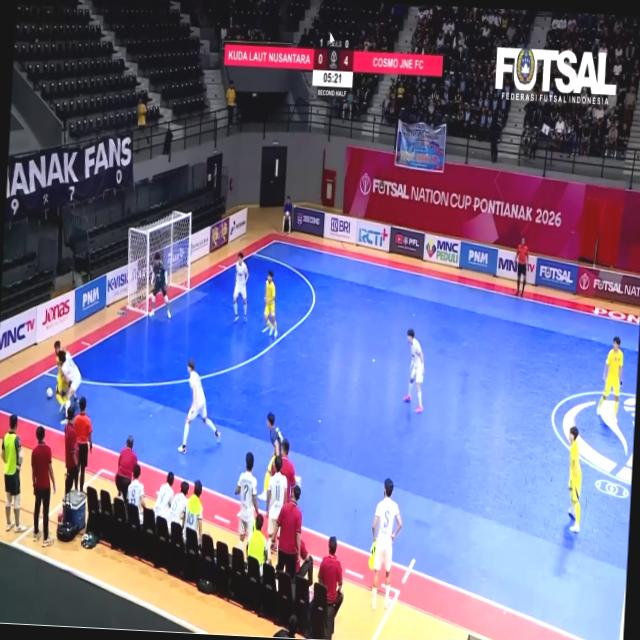keeper: (258, 412, 283, 500), (150, 252, 169, 315)
official: (31, 426, 55, 545), (271, 486, 302, 577), (116, 435, 138, 499), (281, 438, 296, 499)
players: (178, 360, 219, 451), (596, 337, 623, 421), (403, 330, 423, 411), (568, 425, 581, 533), (58, 350, 81, 408), (264, 271, 277, 337)
referee: (74, 397, 92, 490), (233, 252, 248, 321), (515, 237, 528, 296)
